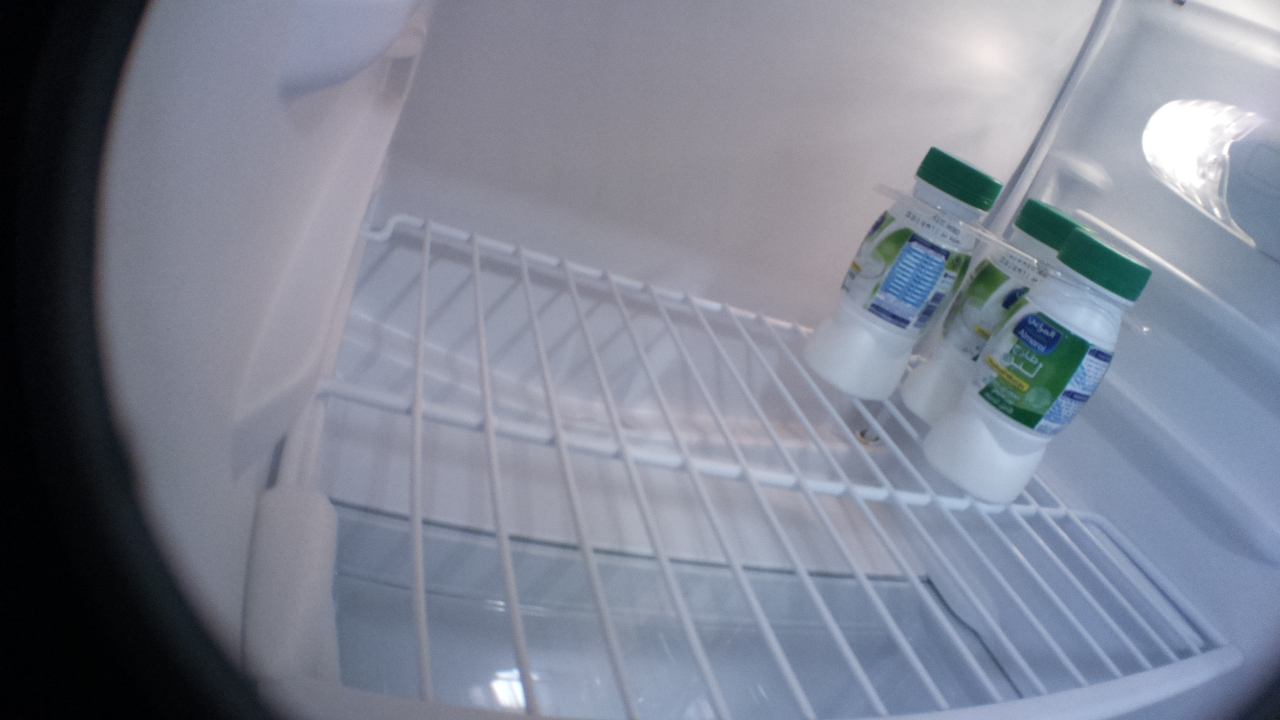laban: (895, 147, 1118, 445), (920, 222, 1152, 504), (806, 143, 1003, 399)
